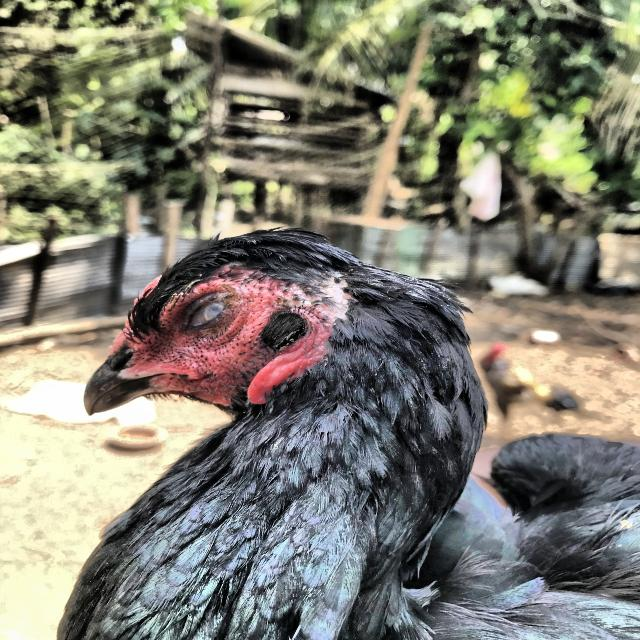Coryza: (87, 224, 640, 640)
